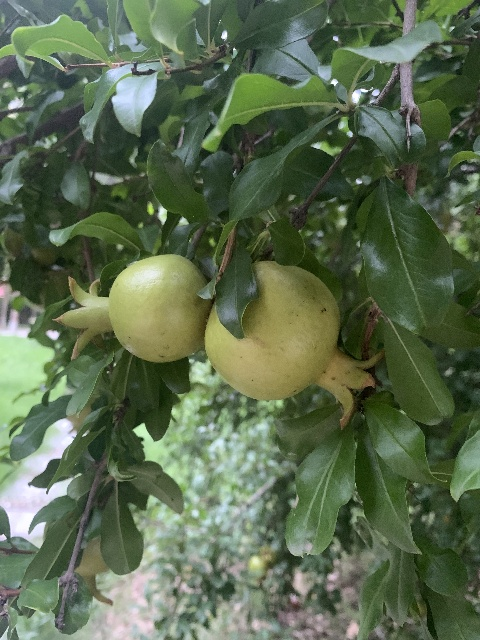mid-growth: (204, 261, 384, 430), (53, 253, 213, 363), (74, 535, 113, 606)
